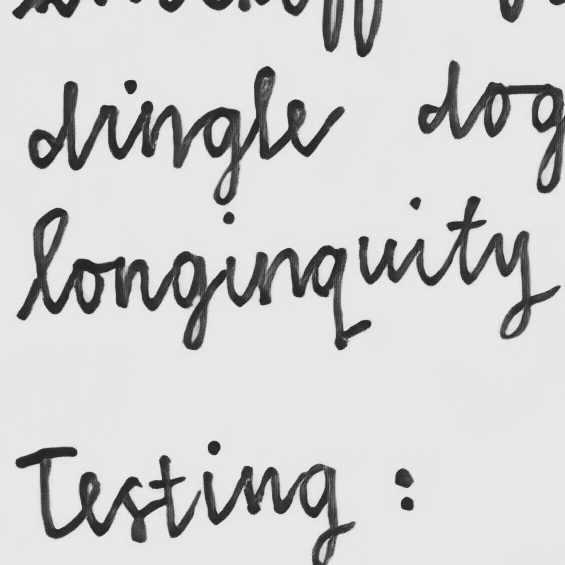g: (169, 249, 211, 351)
i: (218, 210, 247, 309), (404, 194, 432, 287)
l: (30, 206, 69, 316)
n: (252, 246, 301, 307), (113, 255, 153, 313)
o: (71, 255, 106, 317)
q: (308, 241, 351, 351)
t: (443, 195, 488, 286)
u: (356, 233, 400, 288)
y: (490, 228, 534, 341)
